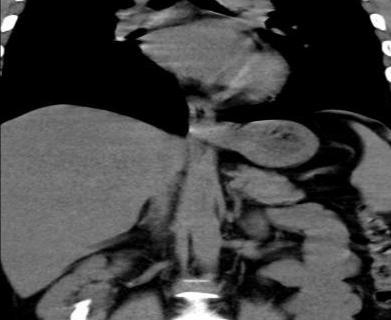Tas_Var: (68, 297, 94, 320)
